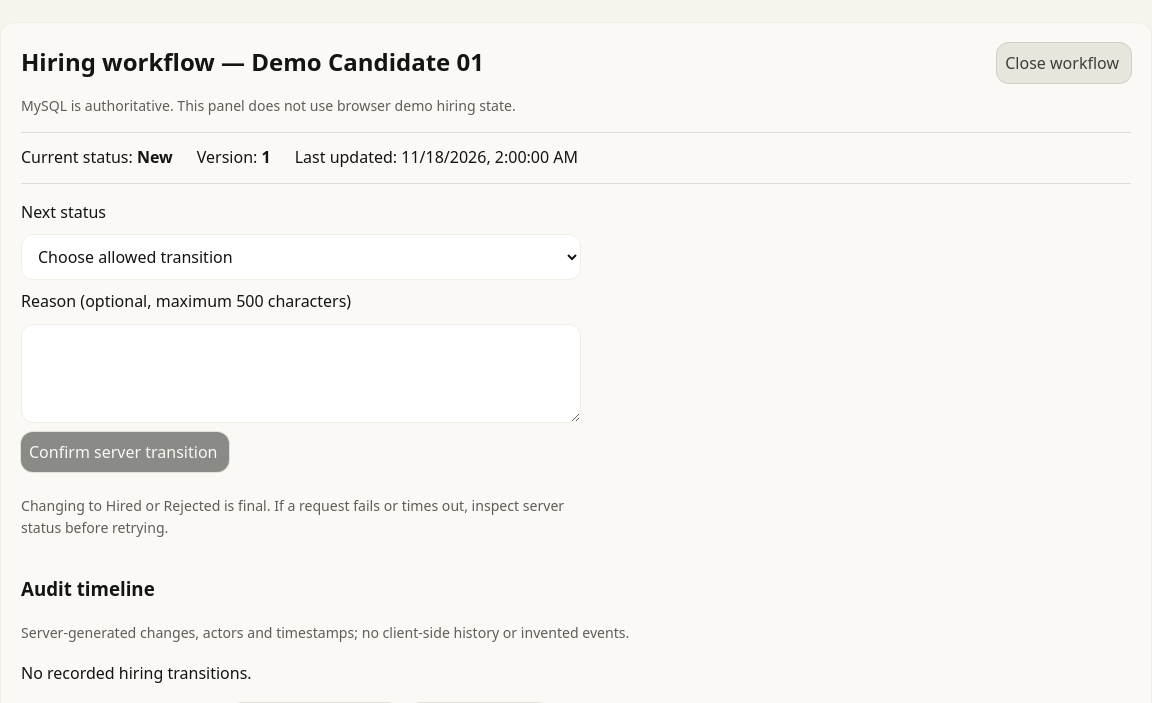
Test: authenticated MySQL hiring workflow panel › 409 conflict freezes further writes and never auto-replays; explicit refresh resolves state
Expected: the text "New" is shown, [137,146,173,168]
Select "Contacted" in the dropdown labelled "Next status" at (301,257), box [21,234,581,280]
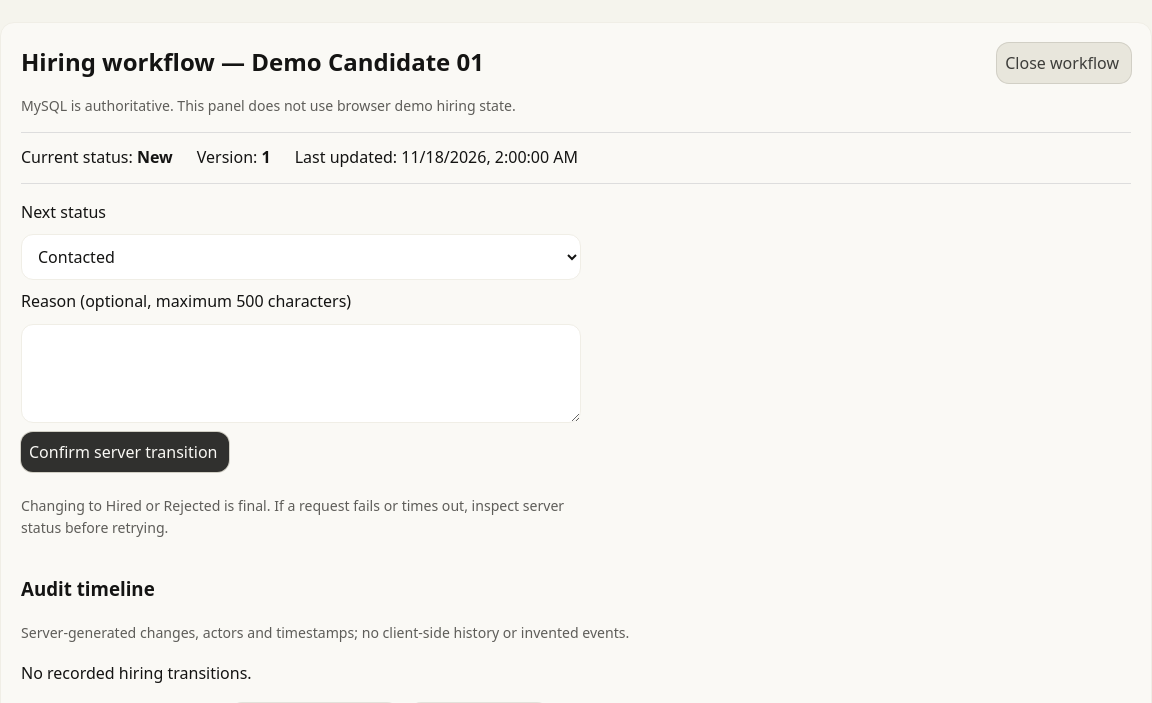
Click the button "Confirm server transition".
click(125, 452)  # box [21,432,230,472]
(page scrolled)
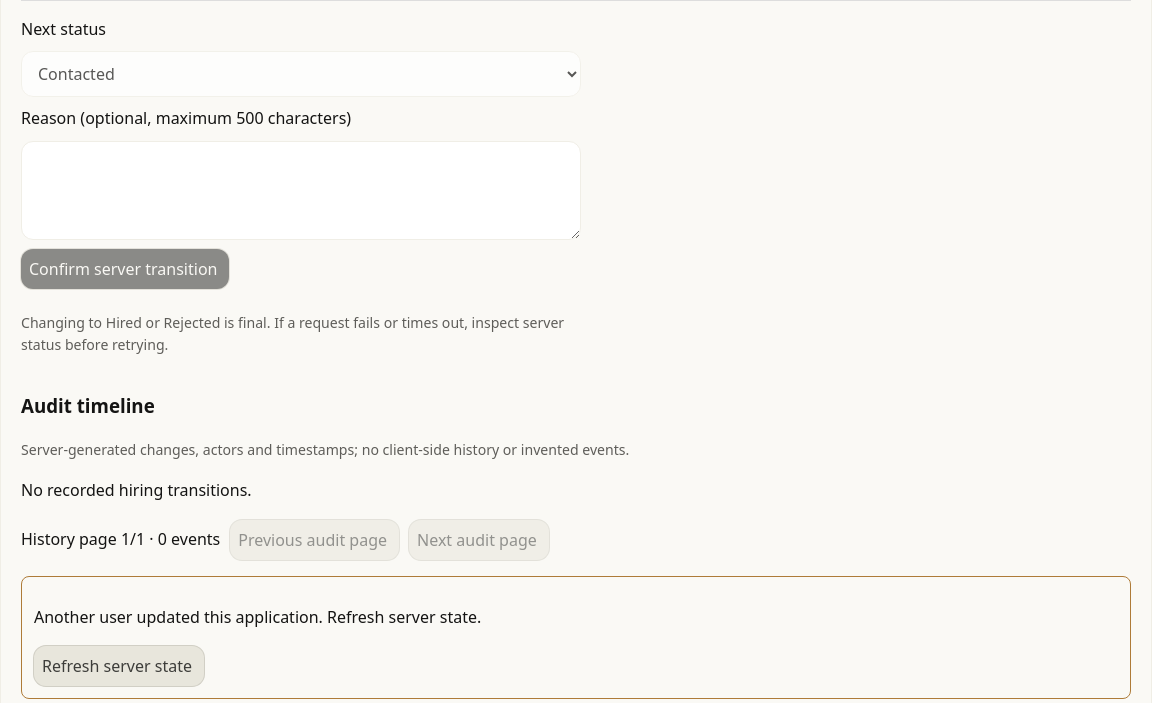
Result: the message shows "Another user updated" at [34,606,481,628]
Result: the button "Confirm server transition" is disabled at [21,249,230,289]
Click the button "Refresh server state".
click(119, 666)  # box [34,646,204,686]
(page scrolled)
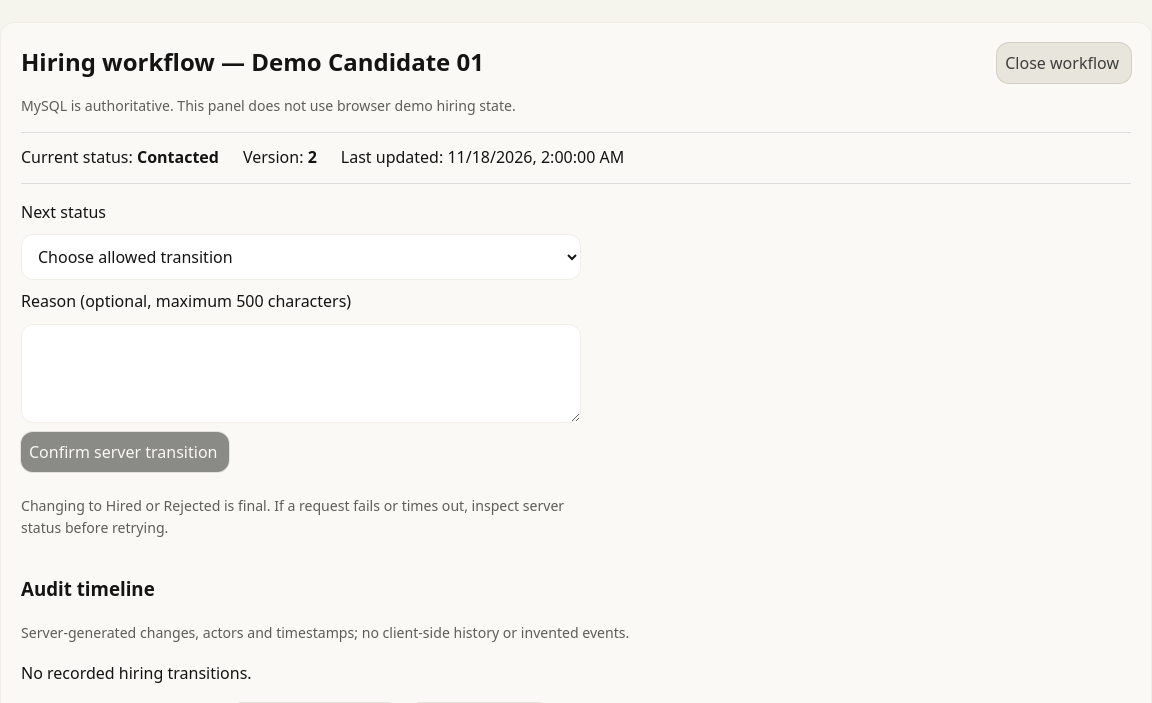
Result: the text "Contacted" is shown at [137,146,219,168]
Result: the text "Version: 2" is shown at [243,145,317,171]
Result: the dropdown labelled "Next status" shows "Choose allowed transition" at [21,234,581,280]
